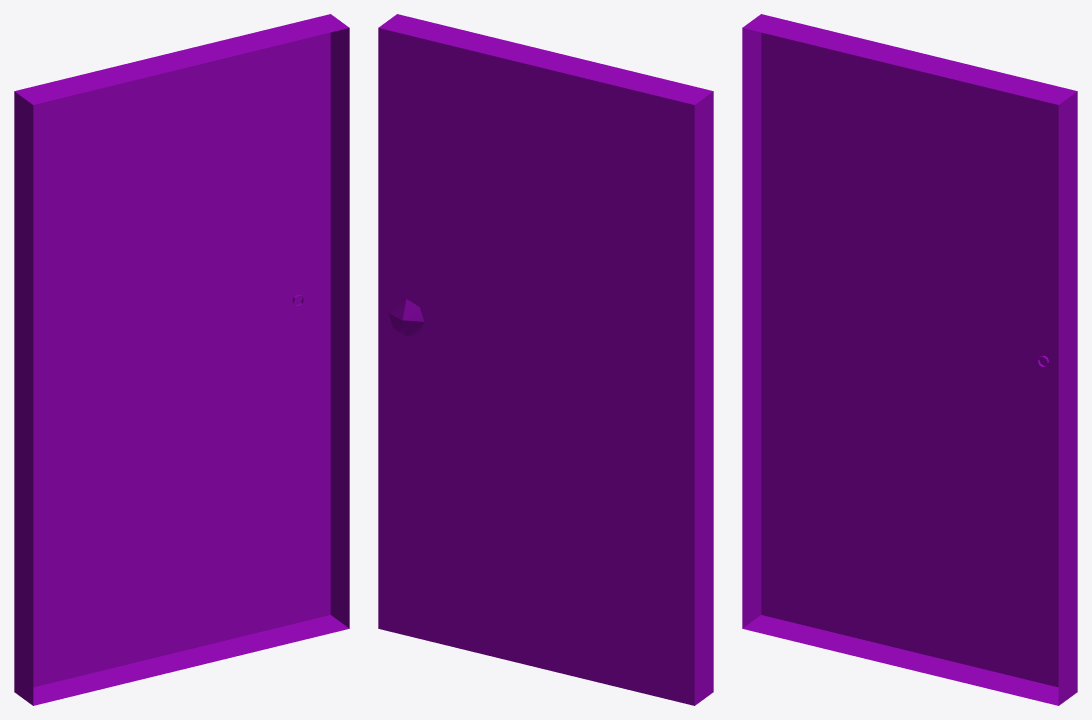
File: Hall Door.fbx
3 views of the same model, side by side, from view 1: azimuth 30°, elevation 25°; view 2: azimuth 150°, elevation 25°; view 3: azimuth 330°, elevation 25° (orthographic).
Visible parts, largest first — view 1: Hall Door; view 2: Hall Door; view 3: Hall Door.
Part boxes in pixels (<box>): Hall Door: <box>14,14,349,705</box>; Hall Door: <box>378,14,713,705</box>; Hall Door: <box>742,14,1077,705</box>.
Size of the model in its own units: 0.952 by 1.73 by 0.1458.
